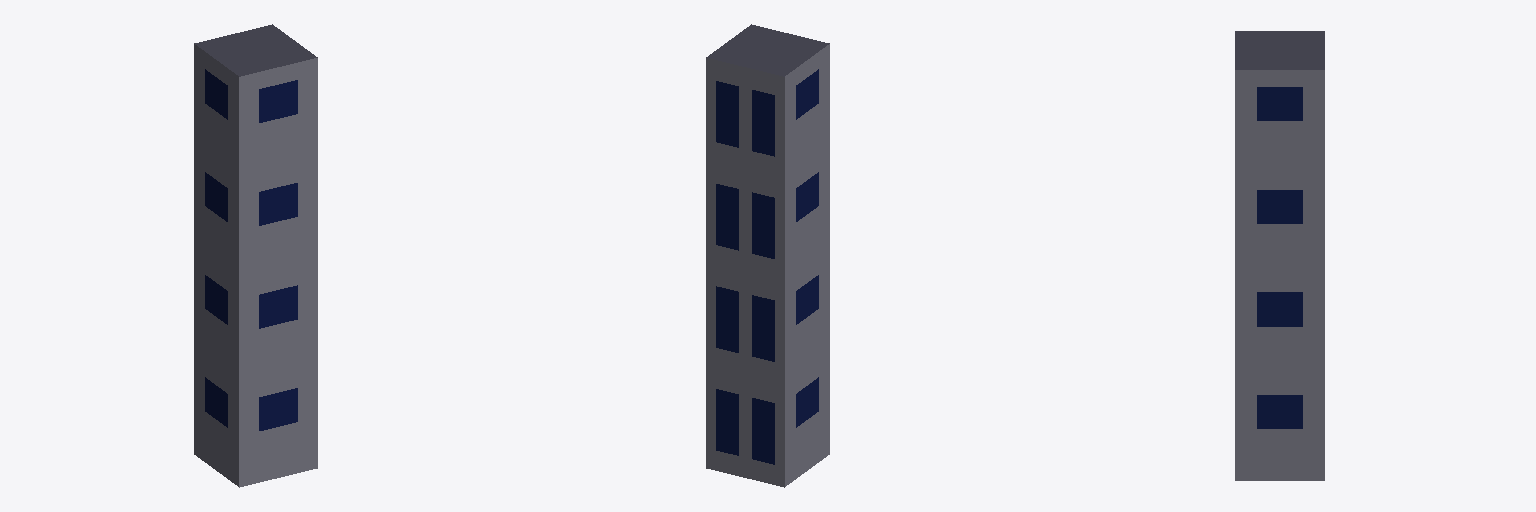
The model's file is apartment_building.obj.
3 views of the same model, side by side, from view 1: azimuth 30°, elevation 25°; view 2: azimuth 150°, elevation 25°; view 3: azimuth 270°, elevation 25° (orthographic).
Parts seen in each view (by area): view 1: ApartmentBuilding; view 2: ApartmentBuilding; view 3: ApartmentBuilding.
Part boxes in pixels (x1,y1,x2,y2): ApartmentBuilding: (194, 24, 317, 487); ApartmentBuilding: (706, 24, 829, 487); ApartmentBuilding: (1235, 31, 1324, 480).
Size of the model in its own units: 2.42 by 12 by 2.42.